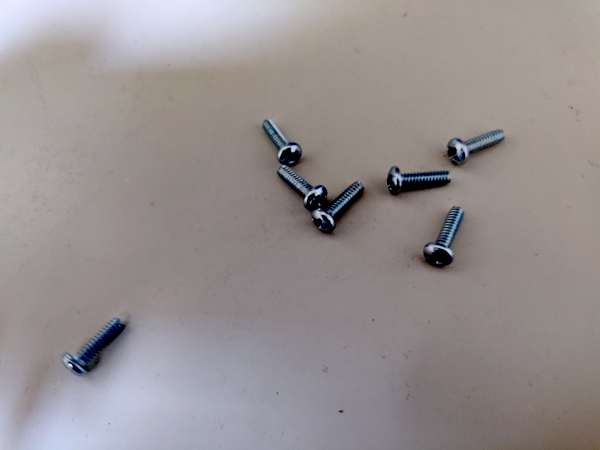shortscrew: (62, 317, 126, 379), (312, 181, 365, 233), (424, 207, 465, 266), (277, 165, 328, 211), (447, 129, 506, 165), (388, 166, 450, 196), (262, 119, 302, 165)
